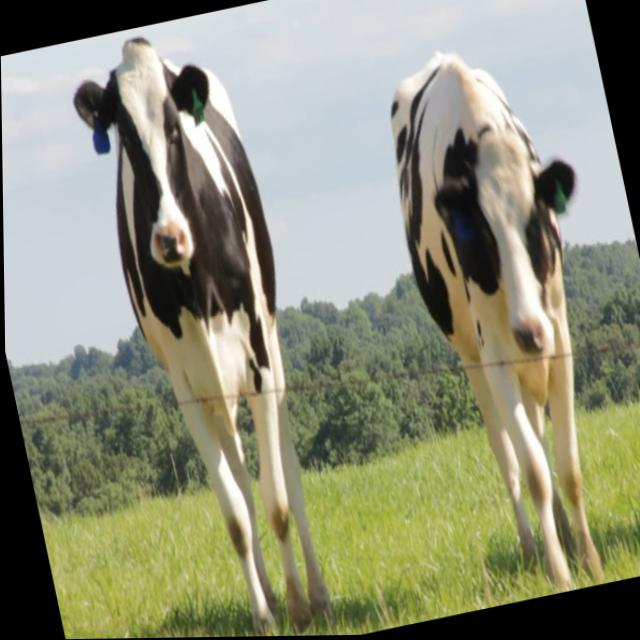cowFace: (59, 21, 247, 292), (412, 117, 605, 377)
